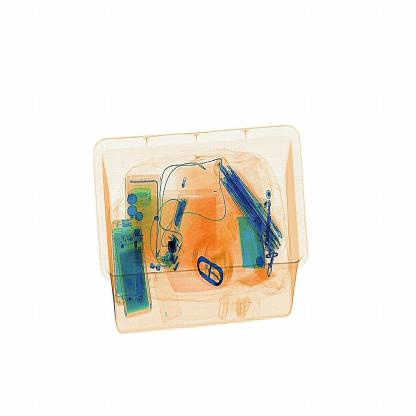scissors: (163, 234, 187, 270)
